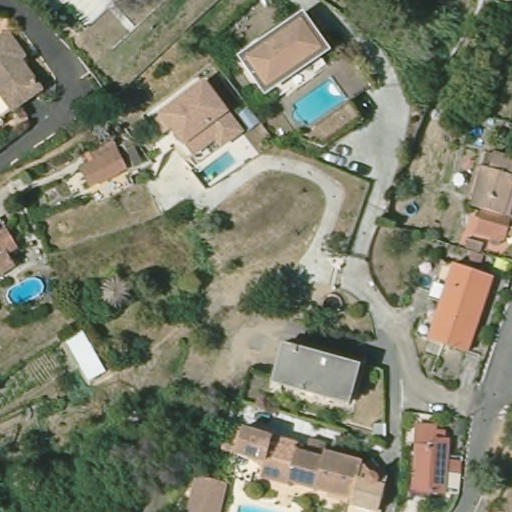pool: (287, 74, 354, 130), (190, 145, 241, 189), (4, 274, 50, 310)
